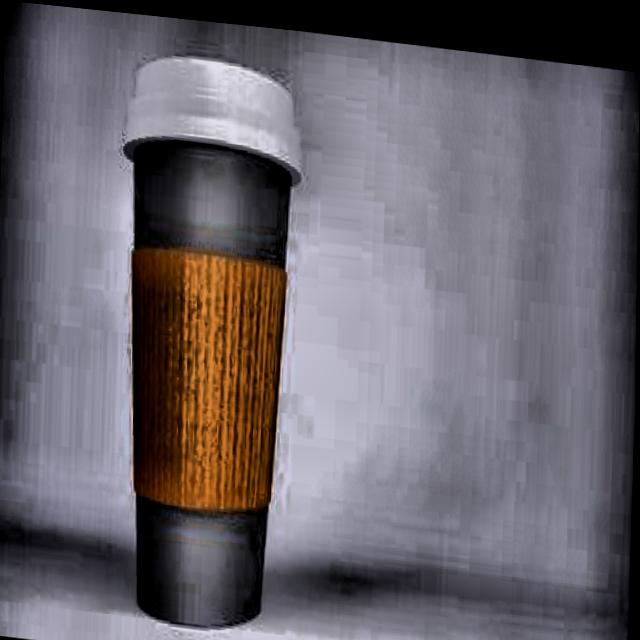Cup: (106, 43, 313, 635)
